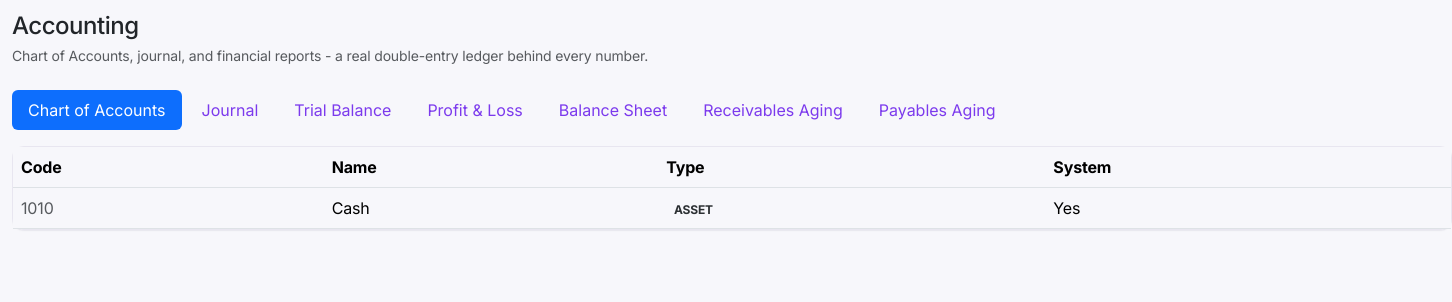
switching tabs after the Chart of Accounts has loaded (the real user sequence) › Receivables Aging: no render exception, and it shows its own content once its response arrives
Expected: the text "Cash" is shown, top-left (324, 187), bottom-right (658, 228)
Click the button "Receivables Aging" at [773, 110], box top-left (687, 90), bottom-right (859, 130)
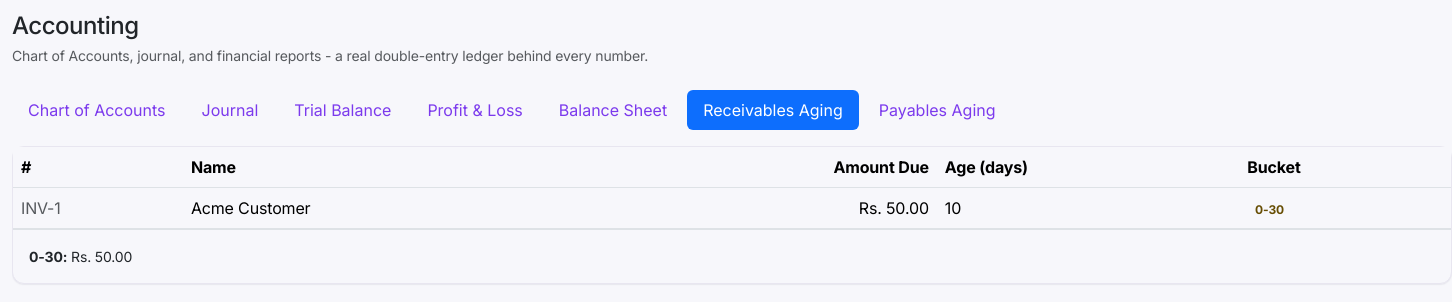
Expected: the text "Acme Customer" is shown, top-left (183, 187), bottom-right (597, 228)
